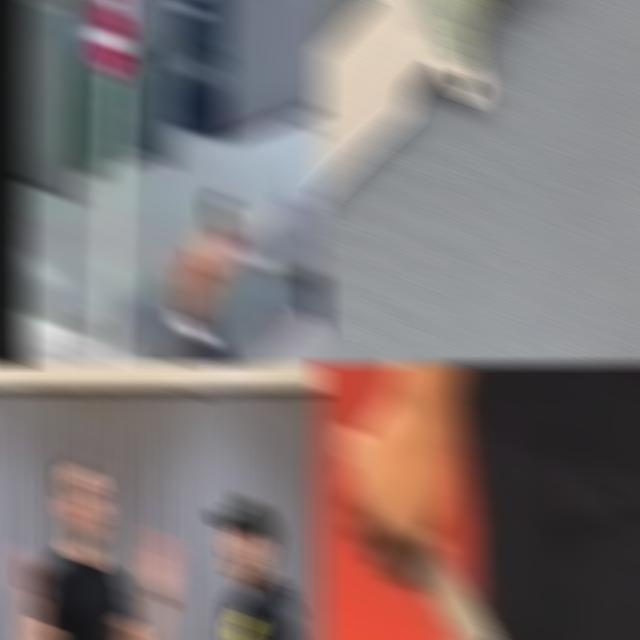Knife: (407, 536, 519, 640)
Knife_Handle: (333, 424, 519, 640), (14, 532, 46, 612), (178, 317, 210, 345)
